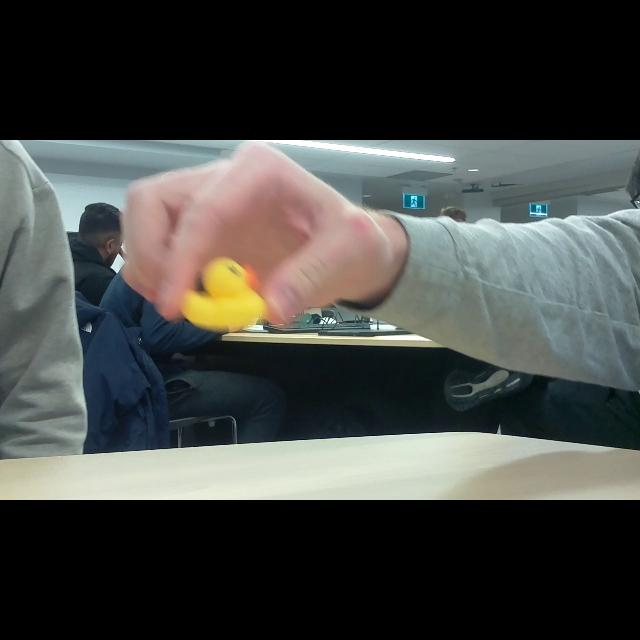duck_regular: (184, 258, 269, 329)
